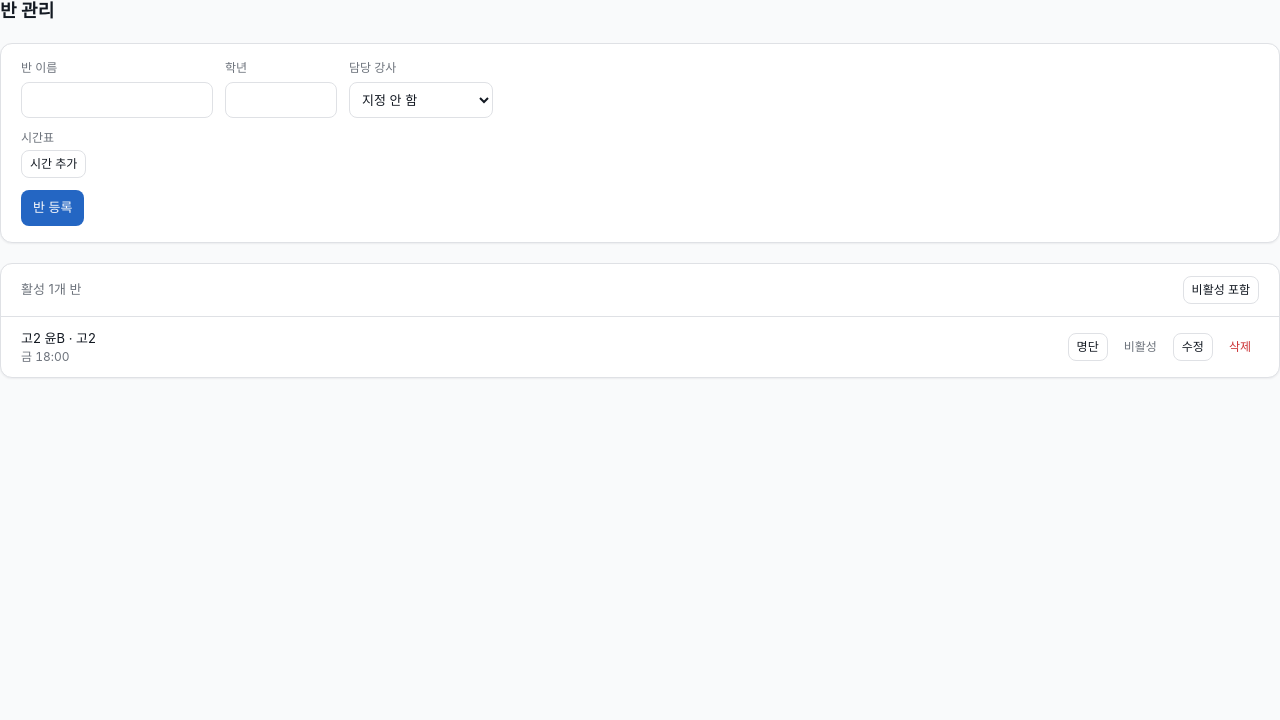
Test case: ClassesPage › deactivates a class without dropping its schedules
Click the button "수정". click: {"x": 1193, "y": 347}
box: x1=1173 y1=333 x2=1213 y2=361
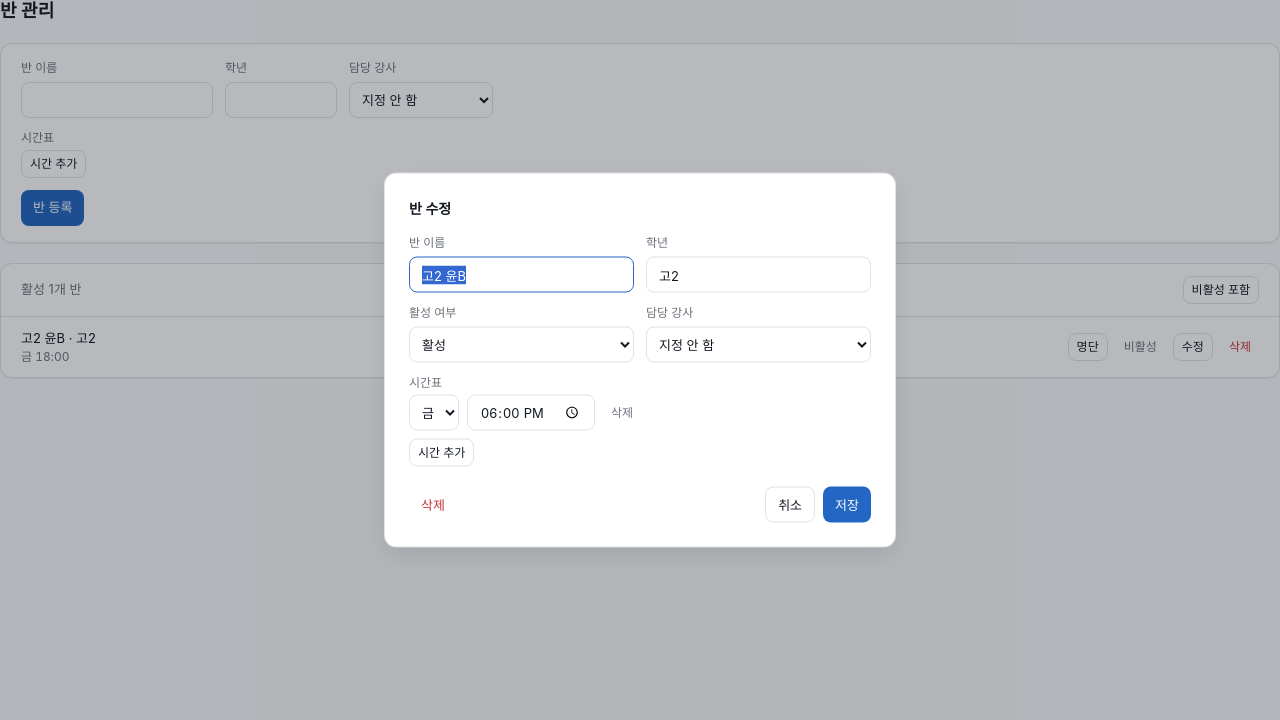
Select "비활성" in the dropdown labelled "활성 여부". click: {"x": 522, "y": 344}
box: x1=409 y1=326 x2=634 y2=362
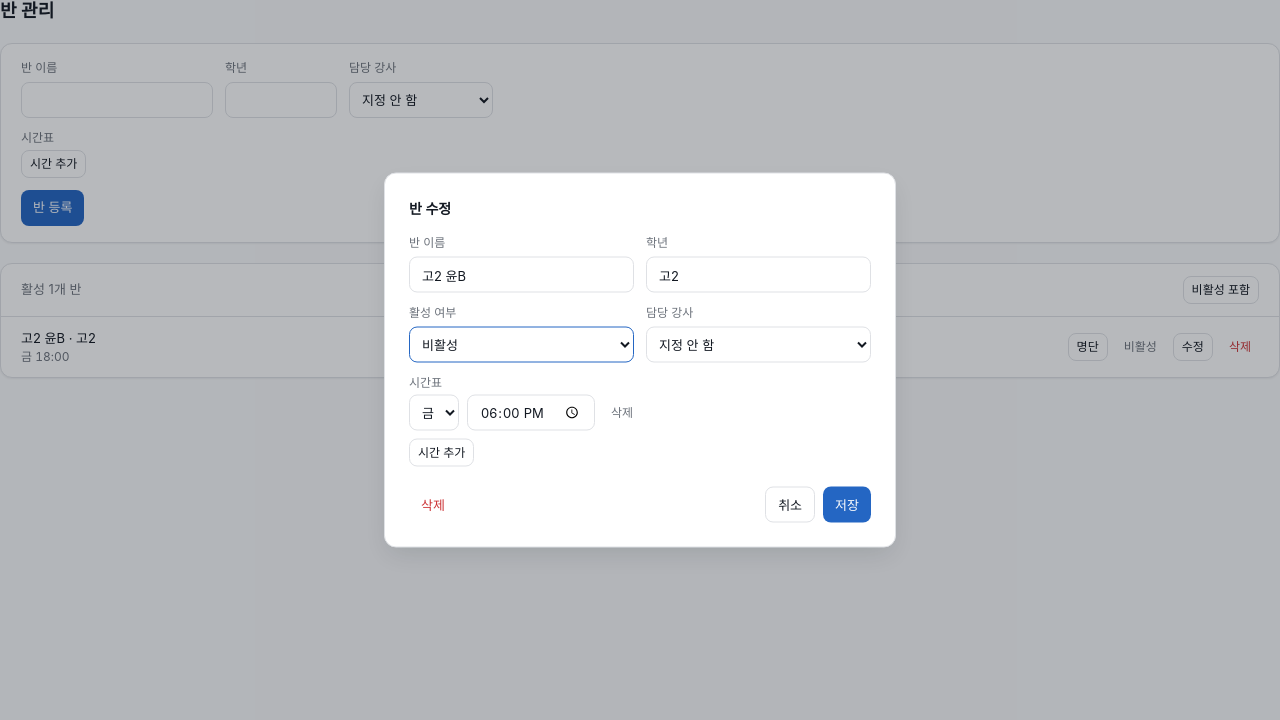
Click the button "저장". click: {"x": 847, "y": 504}
box: x1=823 y1=486 x2=871 y2=522
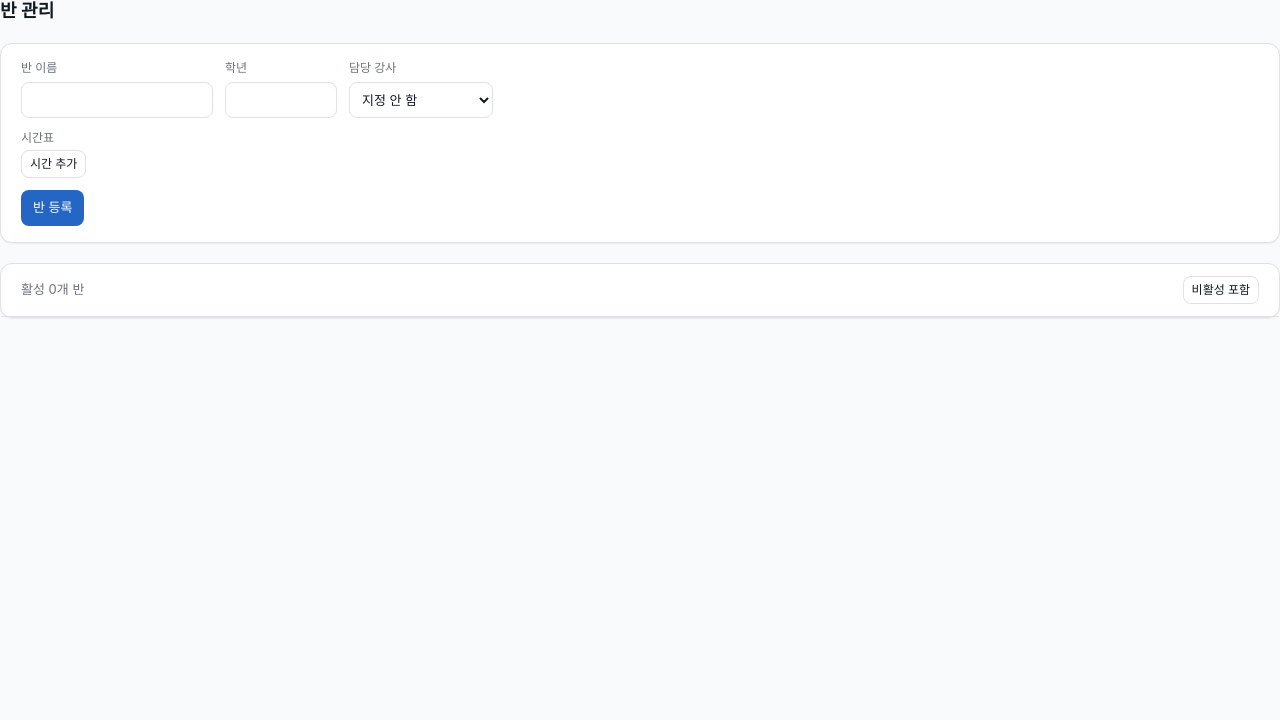
Check: the text "고2 윤B" is gone
